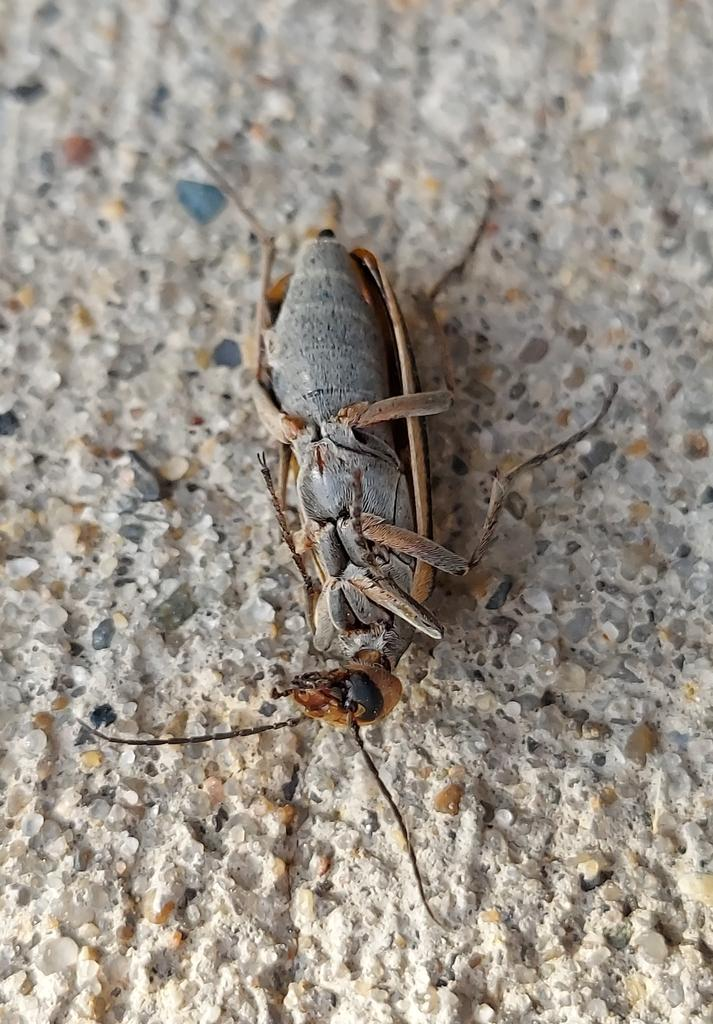blister_beetle: (0, 73, 713, 1024)
